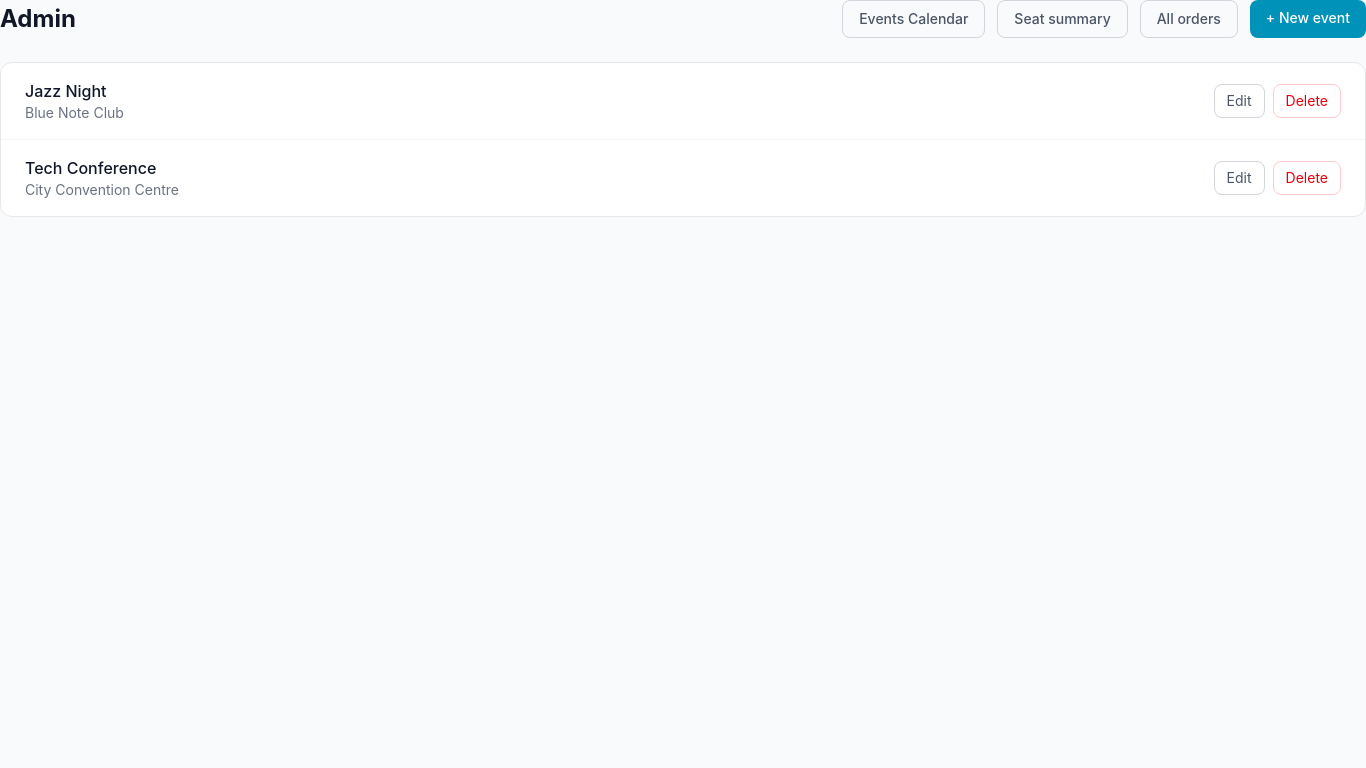
Scenario: clicking Delete opens a confirmation dialog
Expected: the text "Jazz Night" is shown, [25, 81, 107, 101]
Click the button "Delete" in the row of "Jazz Night". click: point(1307, 101)
box: [1273, 84, 1341, 118]
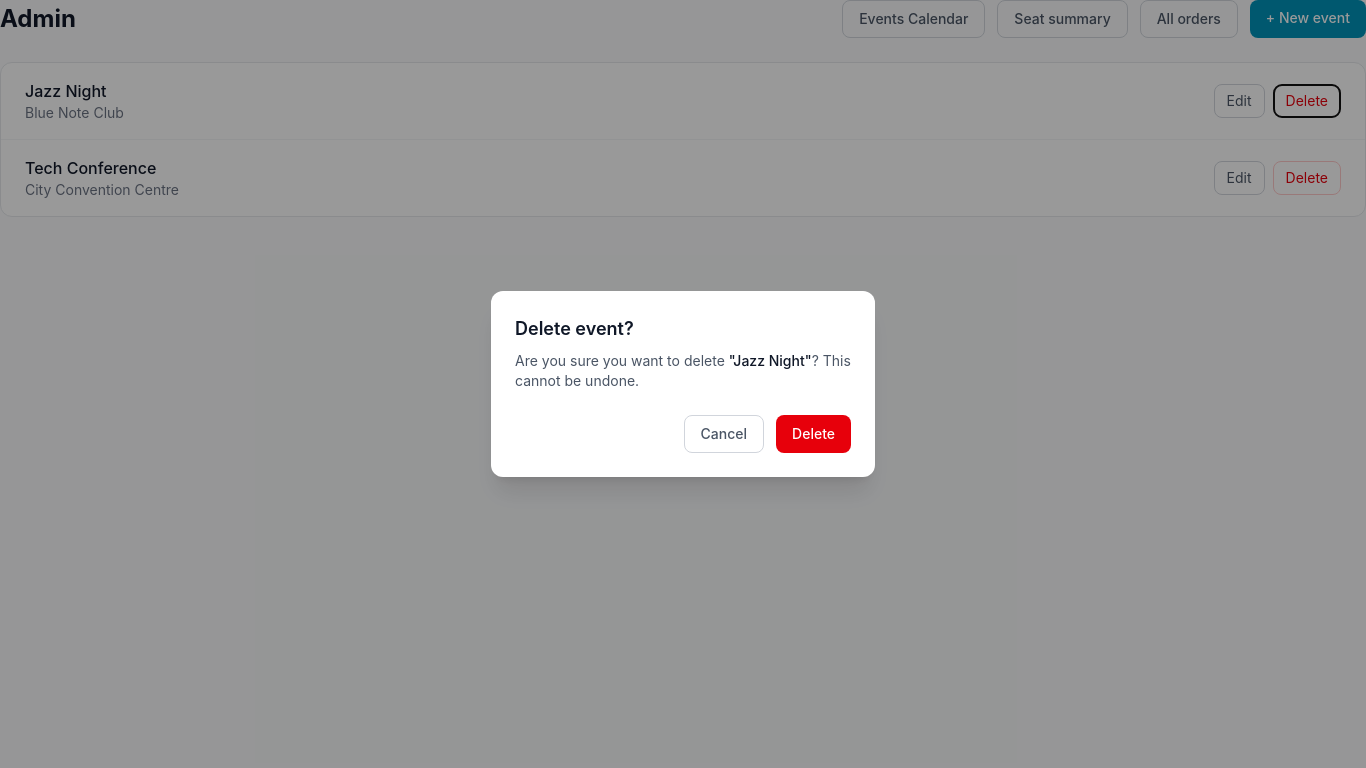
Now the dialog is shown
Now the text "Are you sure you want to delete" is shown, box [515, 352, 729, 369]
Now the text "\"Jazz Night\"" is shown, box [729, 352, 812, 369]
